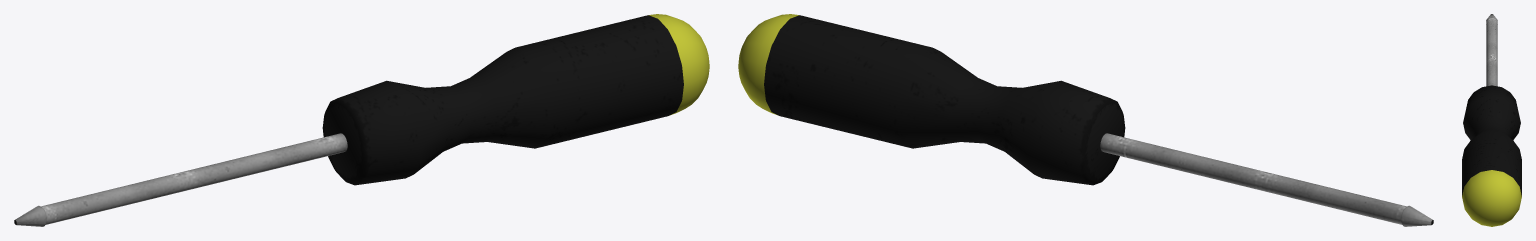
The model's file is 8da2380c-9ed4-44cf-bddb-4179861e2be3.glb.
3 views of the same model, side by side, from view 1: azimuth 30°, elevation 25°; view 2: azimuth 150°, elevation 25°; view 3: azimuth 270°, elevation 25° (orthographic). The views are drawn at different scales.
Parts seen in each view (by area): view 1: Screw_Driver_Q; view 2: Screw_Driver_Q; view 3: Screw_Driver_Q.
Boxes of the visible parts, x1=… form: Screw_Driver_Q: x1=14, y1=14, x2=709, y2=226; Screw_Driver_Q: x1=738, y1=14, x2=1433, y2=226; Screw_Driver_Q: x1=1462, y1=14, x2=1521, y2=226.
Size of the model in its own units: 0.2921 by 0.0381 by 0.0381.
Materials: 1 (1 with a texture image).
